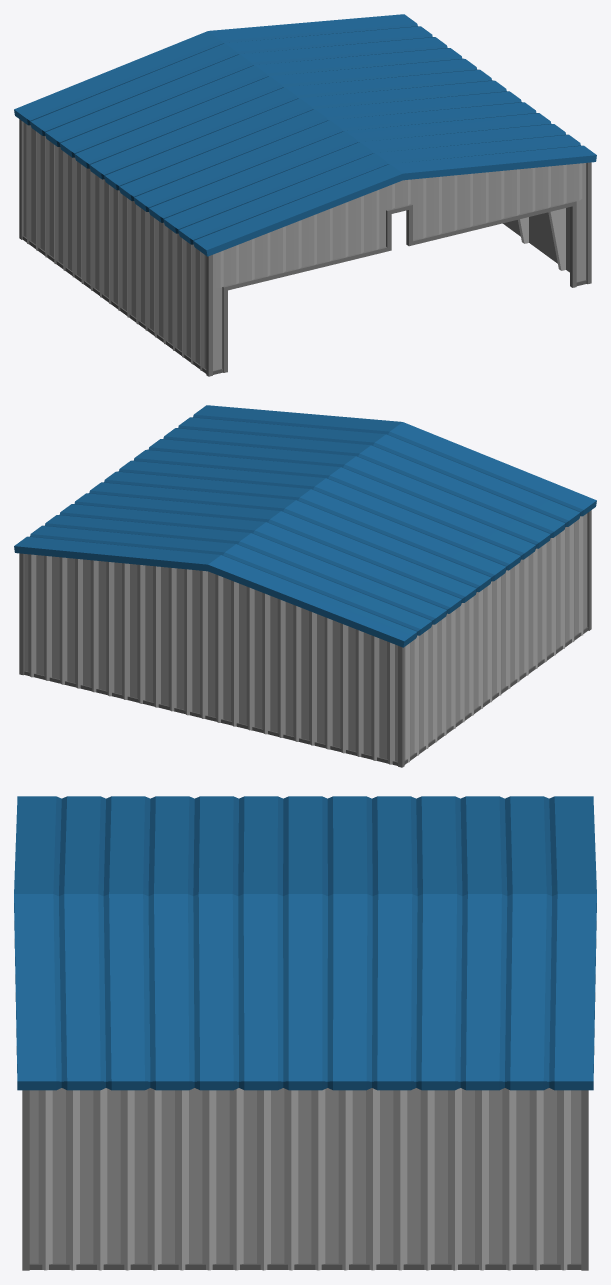
File: Hanger 1.fbx
The picture shows the model from 3 angles, top to bottom: view 1: azimuth 30°, elevation 25°; view 2: azimuth 150°, elevation 25°; view 3: azimuth 270°, elevation 25°; orthographic projection. The views are drawn at different scales.
Parts seen in each view (by area): view 1: Hanger1; view 2: Hanger1; view 3: Hanger1.
Part boxes in pixels (x1,y1,x2,y2): Hanger1: (14,14,596,376); Hanger1: (14,405,596,767); Hanger1: (14,796,596,1270).
Size of the model in its own units: 3880 by 1505 by 3356.
